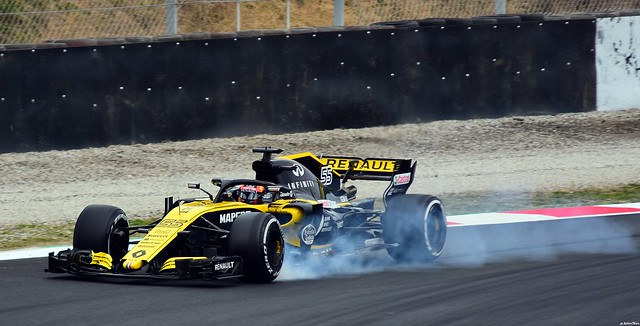F1 Car: (46, 144, 449, 285)
